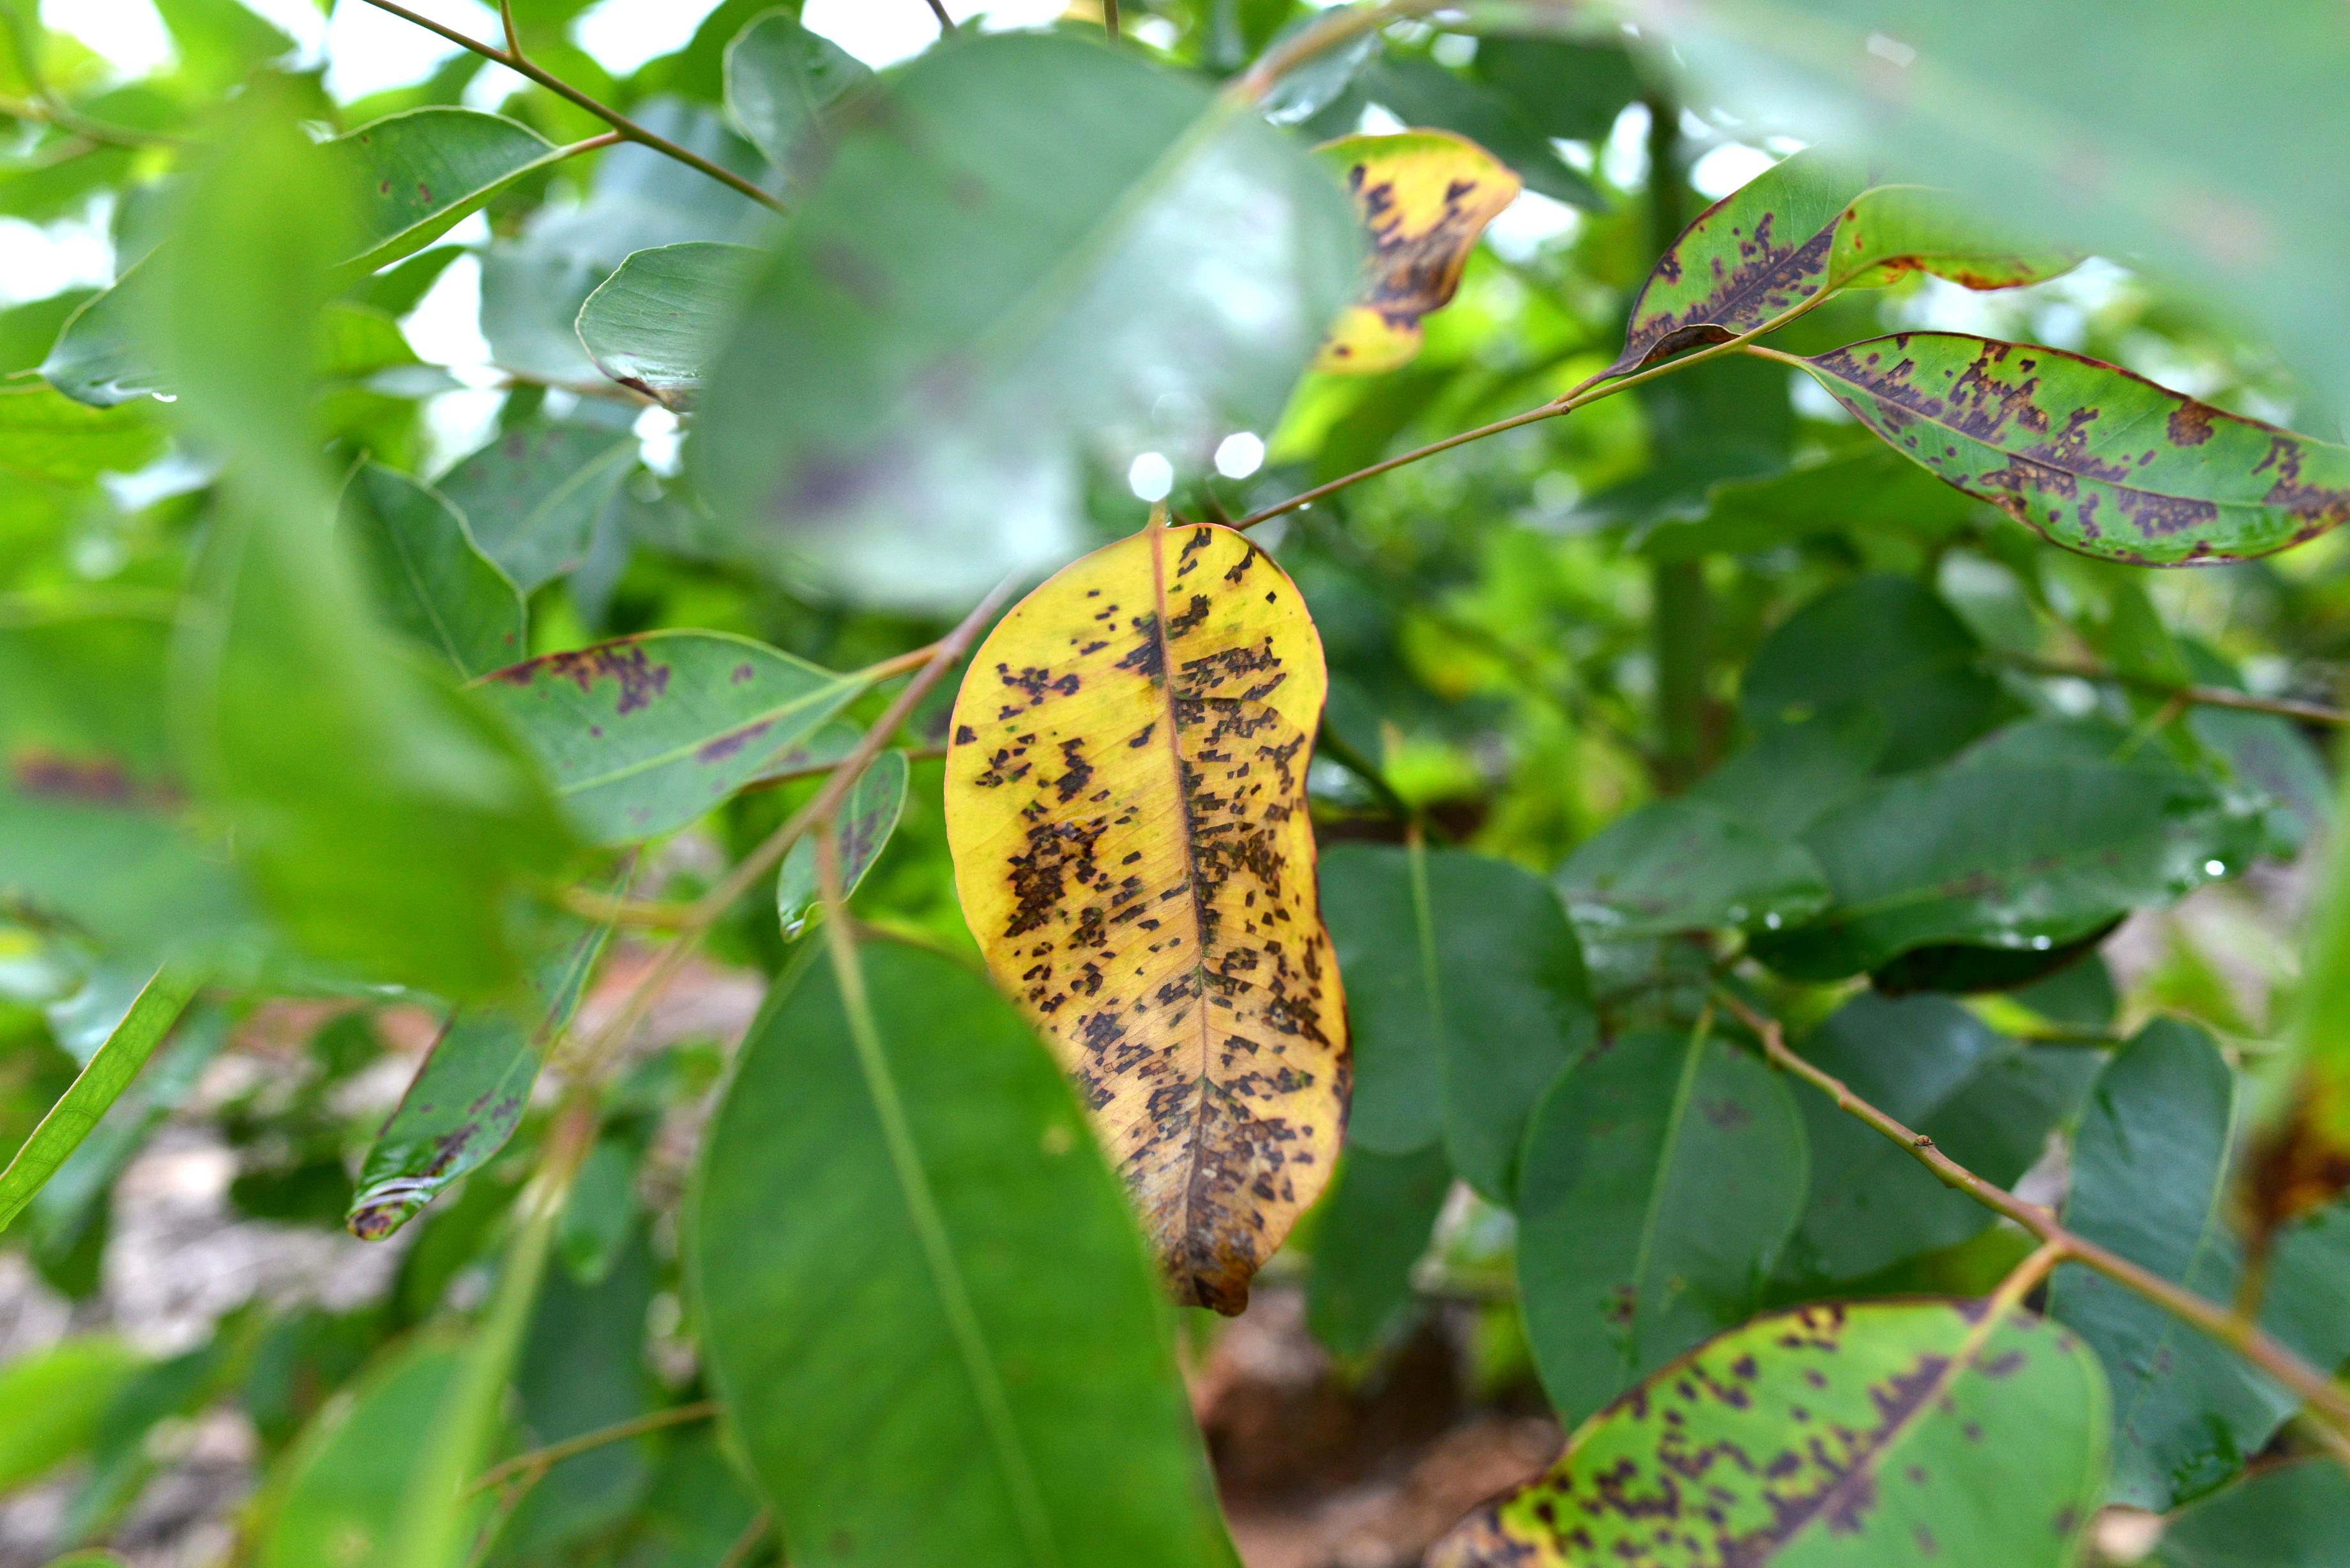Xanthomonas: (973, 534, 1379, 1298), (1456, 1347, 2054, 1566), (1820, 313, 2322, 567), (1613, 196, 1809, 399), (1316, 142, 1540, 299)
